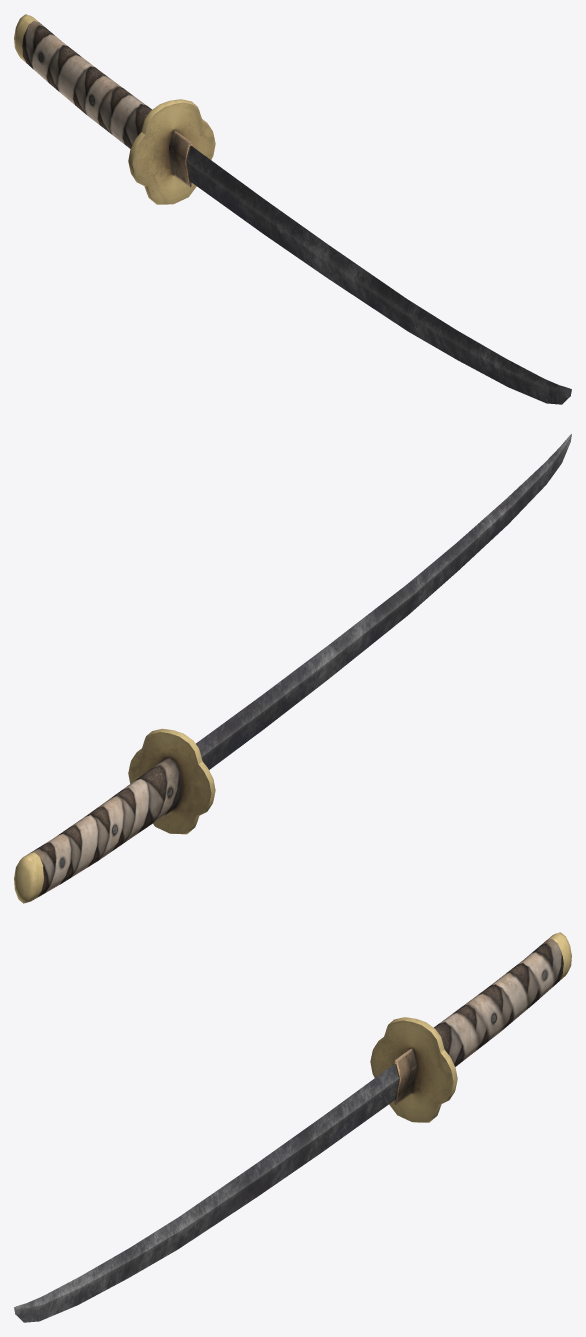
The model's file is weapon_sword_02.fbx.
3 renders of one model, top to bottom at view 1: azimuth 30°, elevation 25°; view 2: azimuth 150°, elevation 25°; view 3: azimuth 330°, elevation 25°, orthographic.
Visible parts, largest first — view 1: weapon_sword_02; view 2: weapon_sword_02; view 3: weapon_sword_02.
Boxes of the visible parts, <box> form: weapon_sword_02: <box>14,14,571,404</box>; weapon_sword_02: <box>14,434,571,903</box>; weapon_sword_02: <box>14,932,571,1322</box>.
Bounding box in the file's own units: 16.17 × 19.34 × 179.
Materials: 1 (1 with a texture image).
